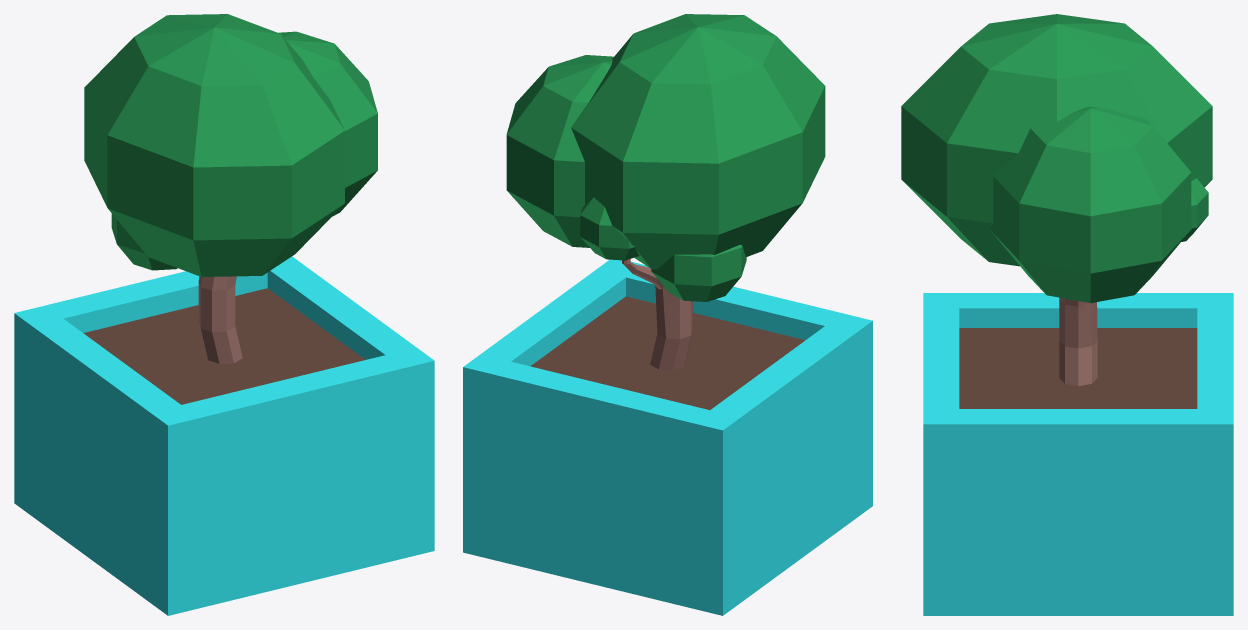
Rendered from tree_small.fbx.
3 renders of one model, left to right at view 1: azimuth 30°, elevation 25°; view 2: azimuth 150°, elevation 25°; view 3: azimuth 270°, elevation 25°, orthographic. The views are drawn at different scales.
Visible parts, largest first — view 1: tree_small; view 2: tree_small; view 3: tree_small.
Boxes of the visible parts, x1,y1,x2,y2 form: tree_small: (14, 14, 434, 615); tree_small: (463, 14, 872, 615); tree_small: (901, 14, 1233, 615).
Size of the model in its own units: 127 by 219 by 128.
Materials: 1 (1 with a texture image).
